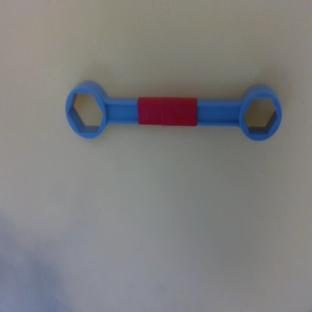part_3_good: (65, 80, 282, 142)
